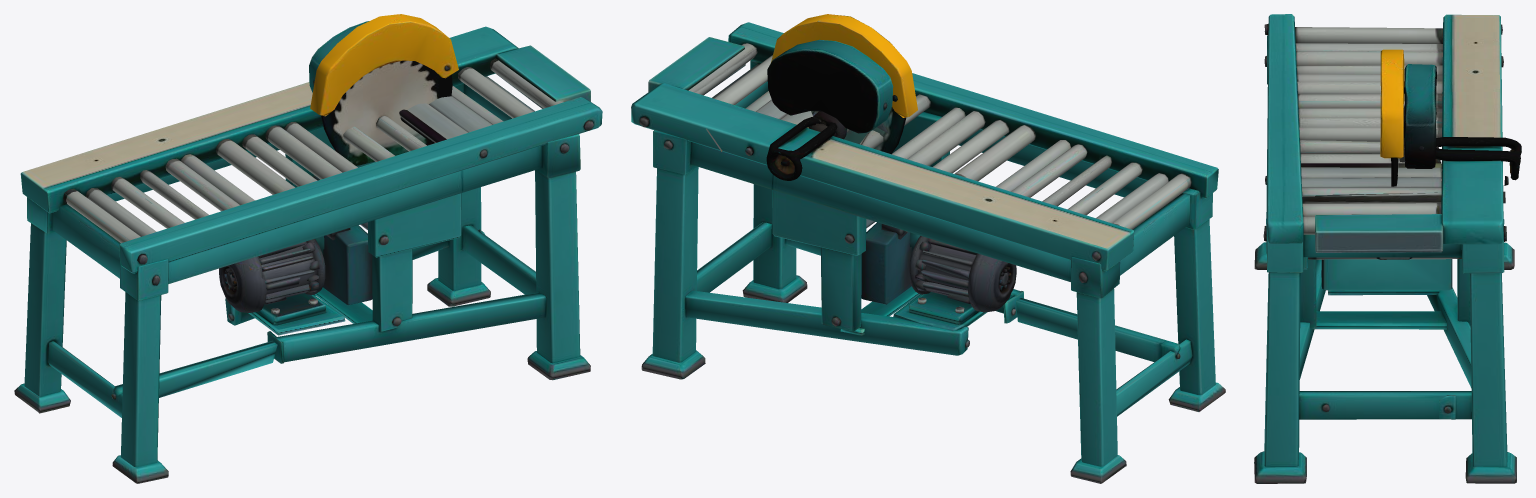
File: timber-saw-bench.glb
3 renders of one model, left to right at view 1: azimuth 30°, elevation 25°; view 2: azimuth 150°, elevation 25°; view 3: azimuth 270°, elevation 25°, orthographic. The views are drawn at different scales.
Visible parts, largest first — view 1: geometry_0; view 2: geometry_0; view 3: geometry_0.
Part boxes in pixels (x1,y1,x2,y2): geometry_0: (14, 14, 602, 483); geometry_0: (631, 14, 1225, 483); geometry_0: (1254, 14, 1521, 483).
Size of the model in its own units: 1.92 by 1.3 by 0.879.
1 material, 1 textured.
